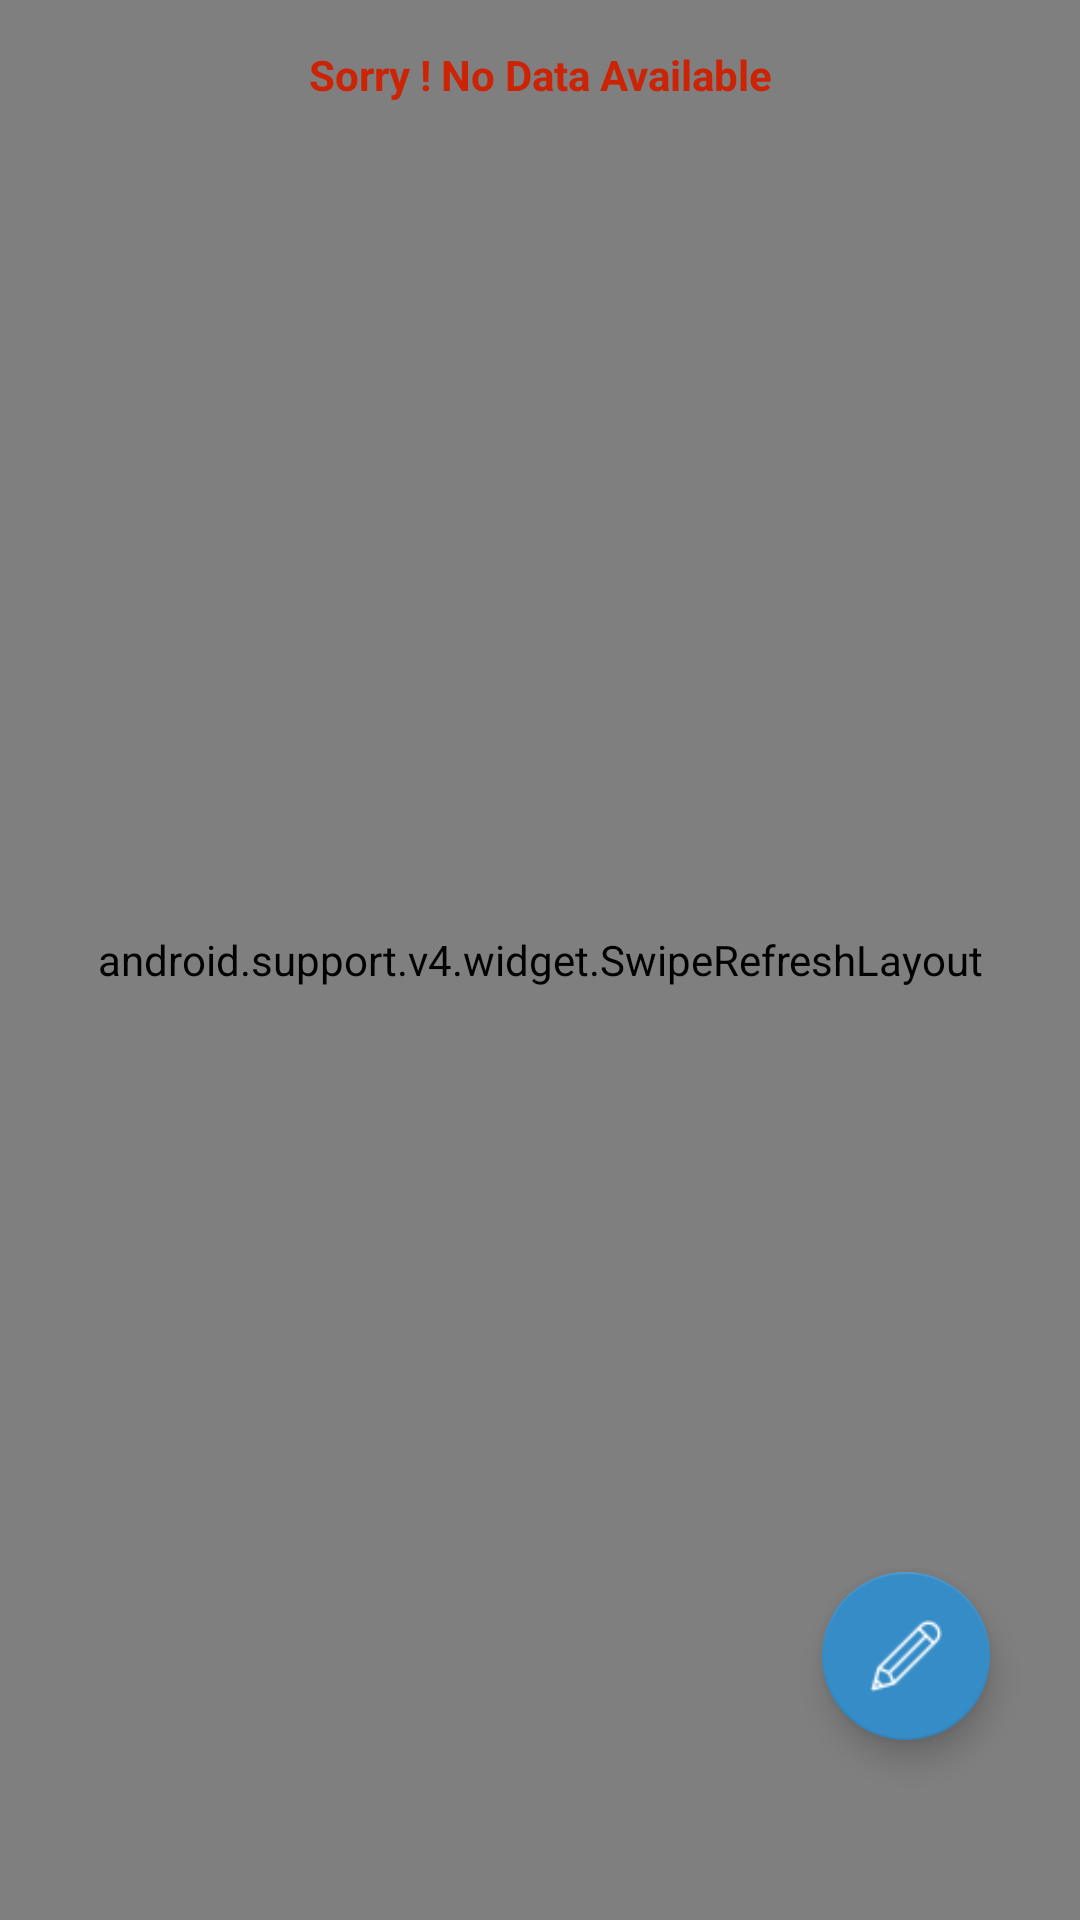

Icons on this 1080w x 1920h Android screen, each with the point to tap as [x,y]:
pencil: [906,1656]
